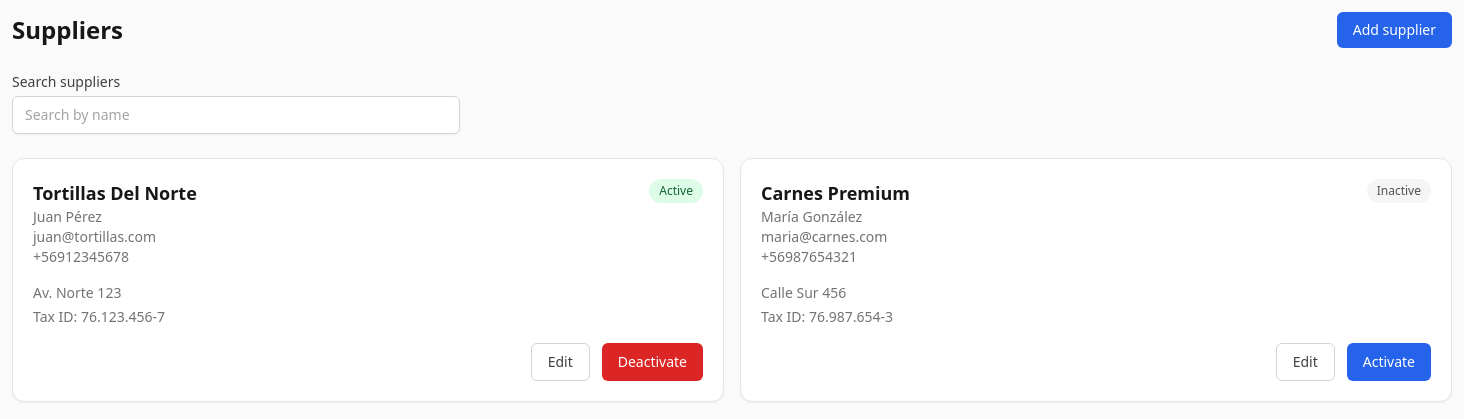
Test: SuppliersPage › activates an inactive supplier
Expected: the heading "Carnes Premium" is shown, [761,179,910,207]
Click the button "Activate".
click(1389, 362)  # box [1347,343,1431,381]
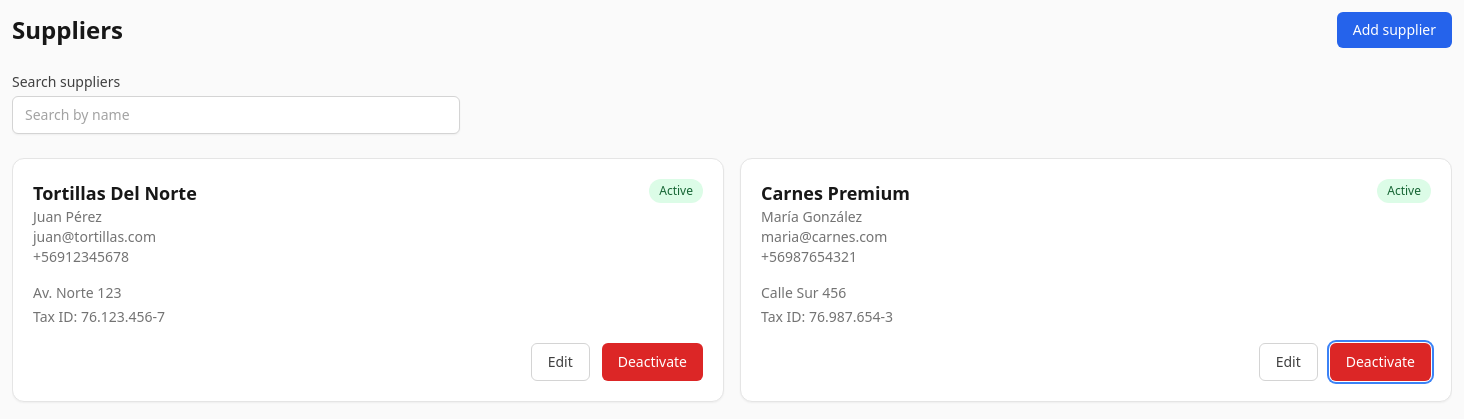
Now the button with test id "toggle-supplier-button" reads "Deactivate", box [1330,343,1431,381]
